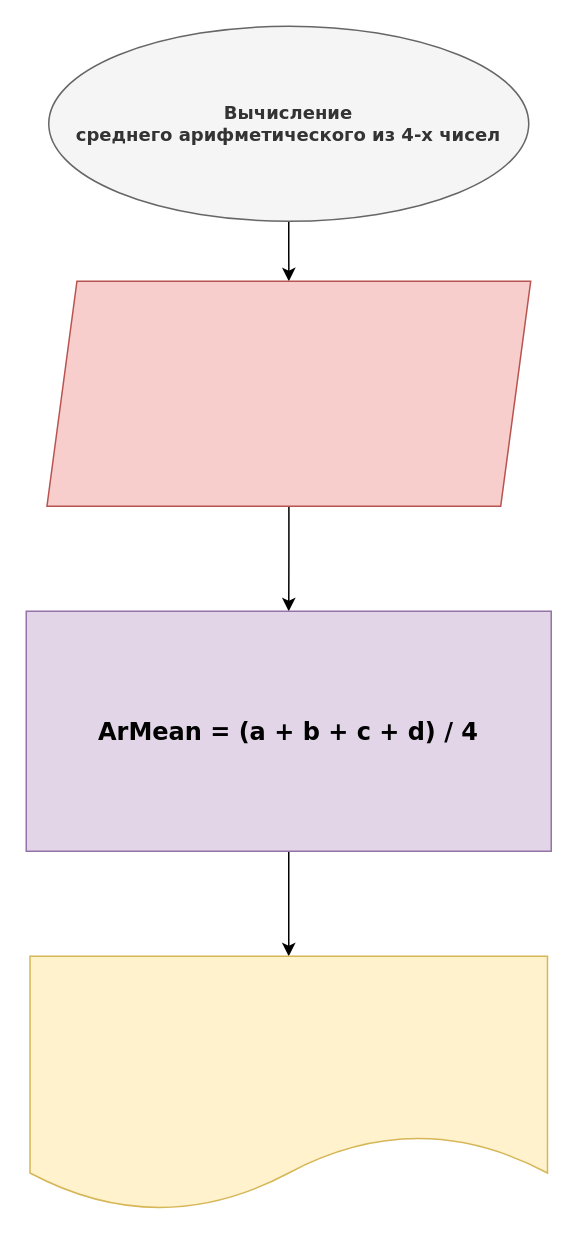
Some shapes in this 578 by 1238 pixel diagram are drawn without their labels. Here are the shapes that lost their labels. From the top down, the centre of each, then its label:
(288,393): a = 5; b = 7; c = 9; d = 11; ArMean;
(288,1083): Вывод "ArMean = 8"
